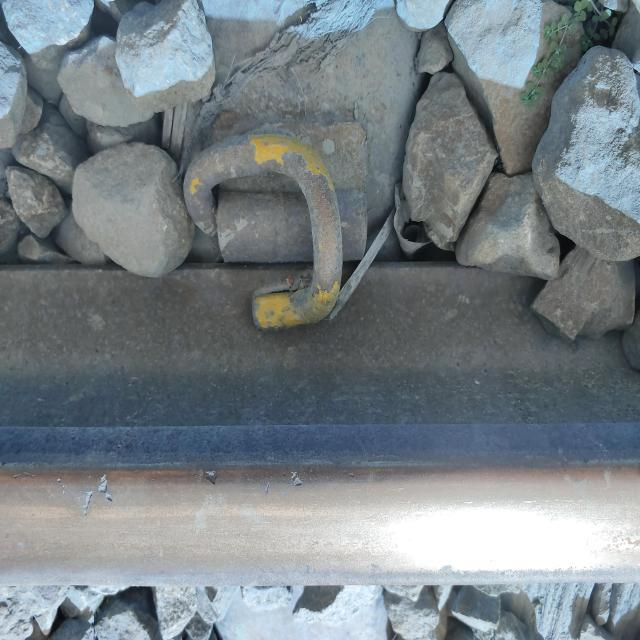Good Fasteners: (184, 103, 394, 329)
